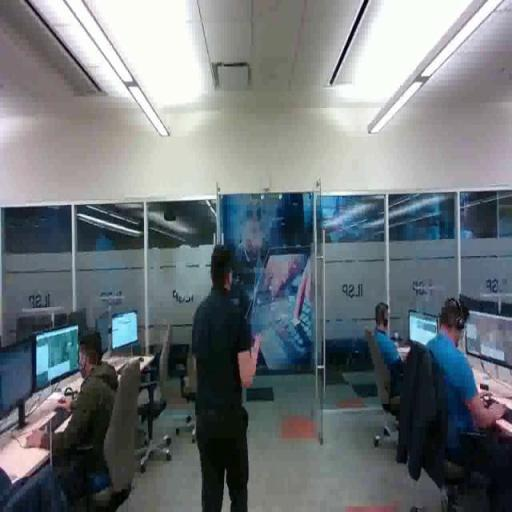person: (403, 293, 512, 490), (187, 246, 264, 512), (22, 328, 131, 512), (369, 298, 424, 437)
